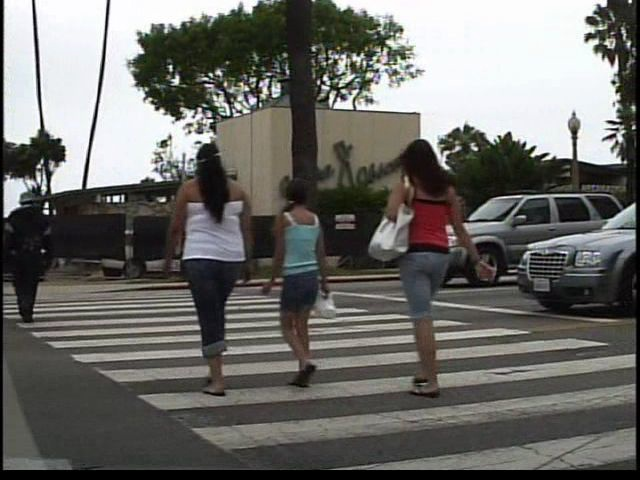person: (392, 128, 498, 396), (175, 135, 272, 407), (271, 170, 345, 395), (6, 180, 72, 332)
